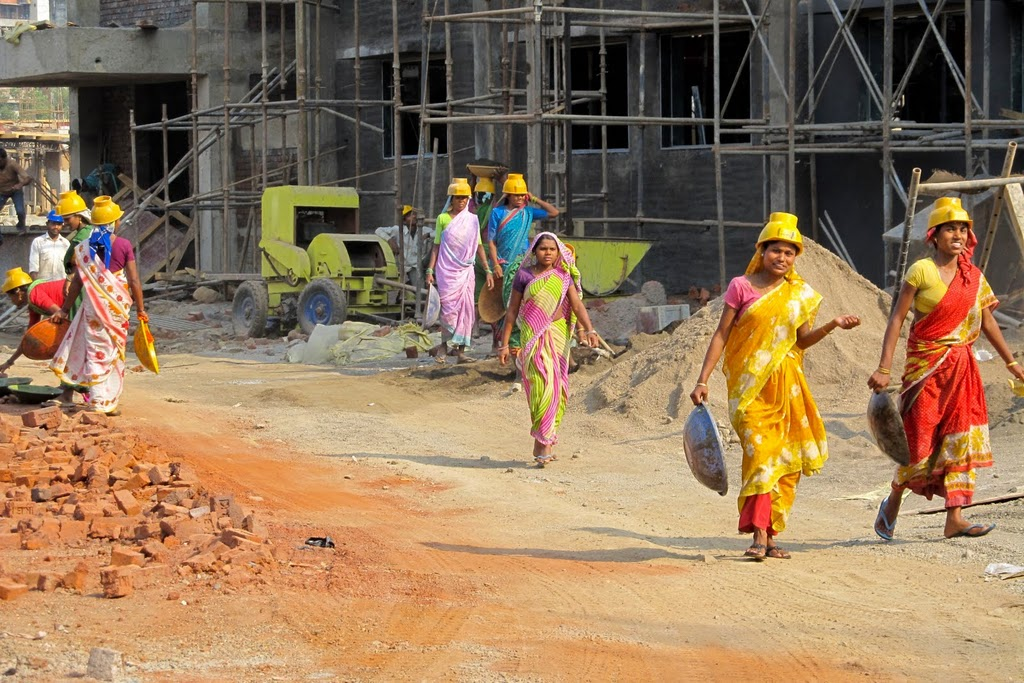NOTSAFE: (529, 232, 579, 348)
NoJacket: (727, 213, 810, 370), (908, 195, 979, 346), (69, 195, 131, 314), (430, 176, 477, 267), (495, 173, 530, 257)
